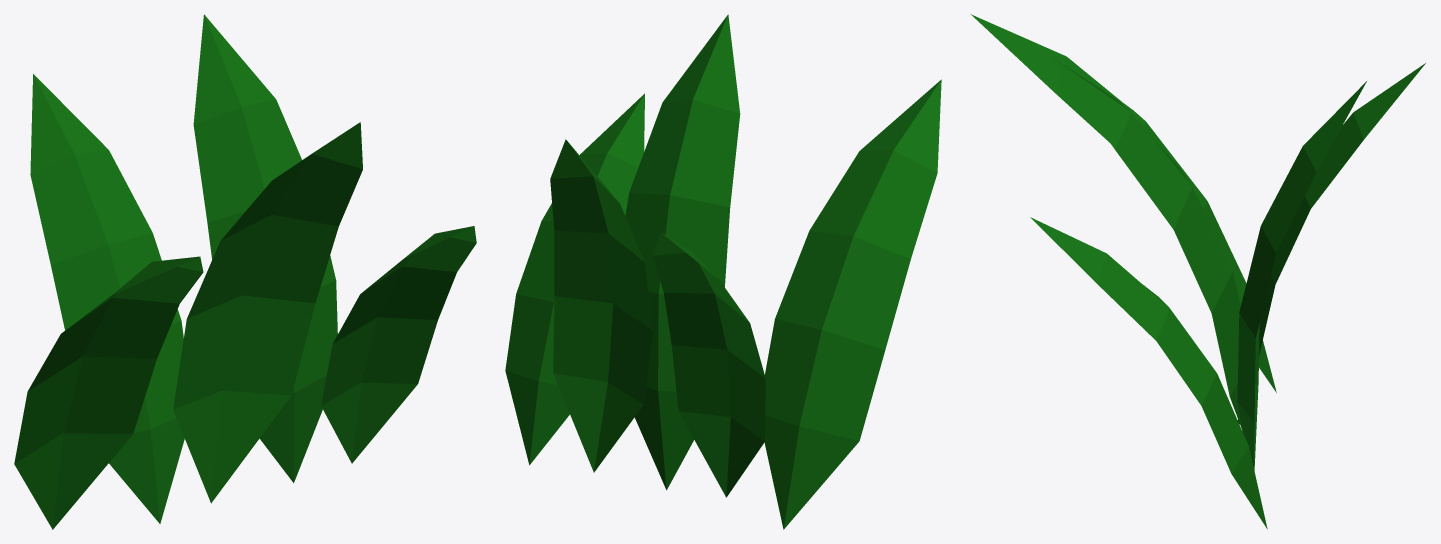
Rendered from Grass_2.fbx.
3 renders of one model, left to right at view 1: azimuth 30°, elevation 25°; view 2: azimuth 150°, elevation 25°; view 3: azimuth 270°, elevation 25°, orthographic. The views are drawn at different scales.
Parts seen in each view (by area): view 1: Grass_2; view 2: Grass_2; view 3: Grass_2.
Part boxes in pixels (<box>): Grass_2: <box>14,14,476,529</box>; Grass_2: <box>505,14,941,529</box>; Grass_2: <box>970,14,1425,529</box>.
Size of the model in its own units: 0.8478 by 0.8868 by 0.8616.
